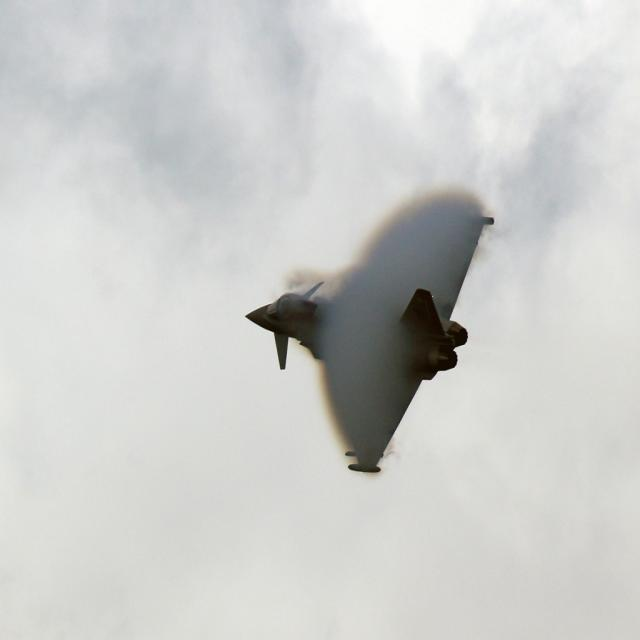MIL_Plane: (245, 216, 494, 473)
